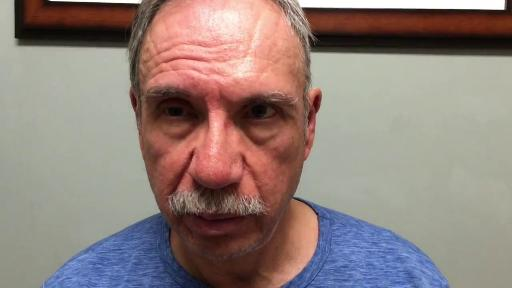left_eye: (241, 105, 289, 122)
left_lip_corner: (237, 212, 256, 224)
right_eye: (158, 105, 196, 121)
